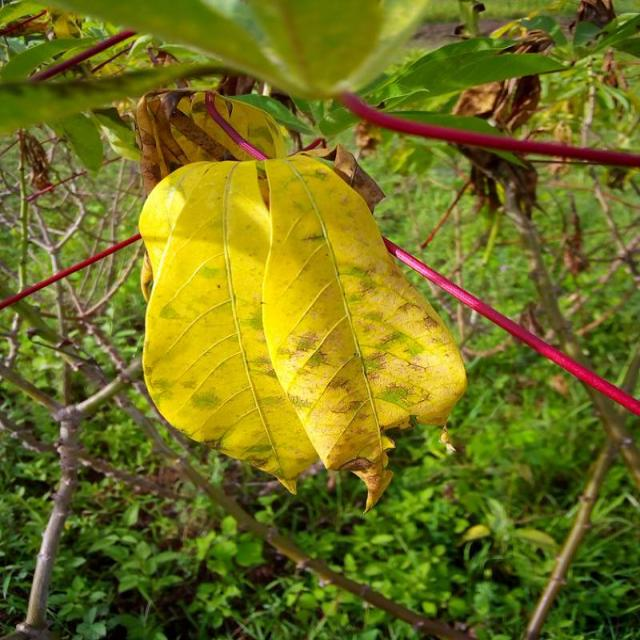cassava leaf: (137, 151, 467, 511)
